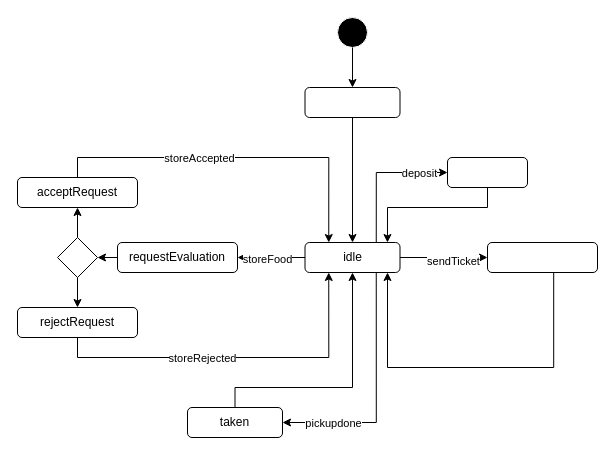
The diagram is 615 pixels wide and 455 high, and some of its shapes have lost their labels. The box of each missing label's shape, as (x1, y1, x2, y2) in pixels:
charged: (446, 156, 528, 188)
setup: (304, 86, 400, 118)
ticketEvaluation: (486, 242, 598, 272)
